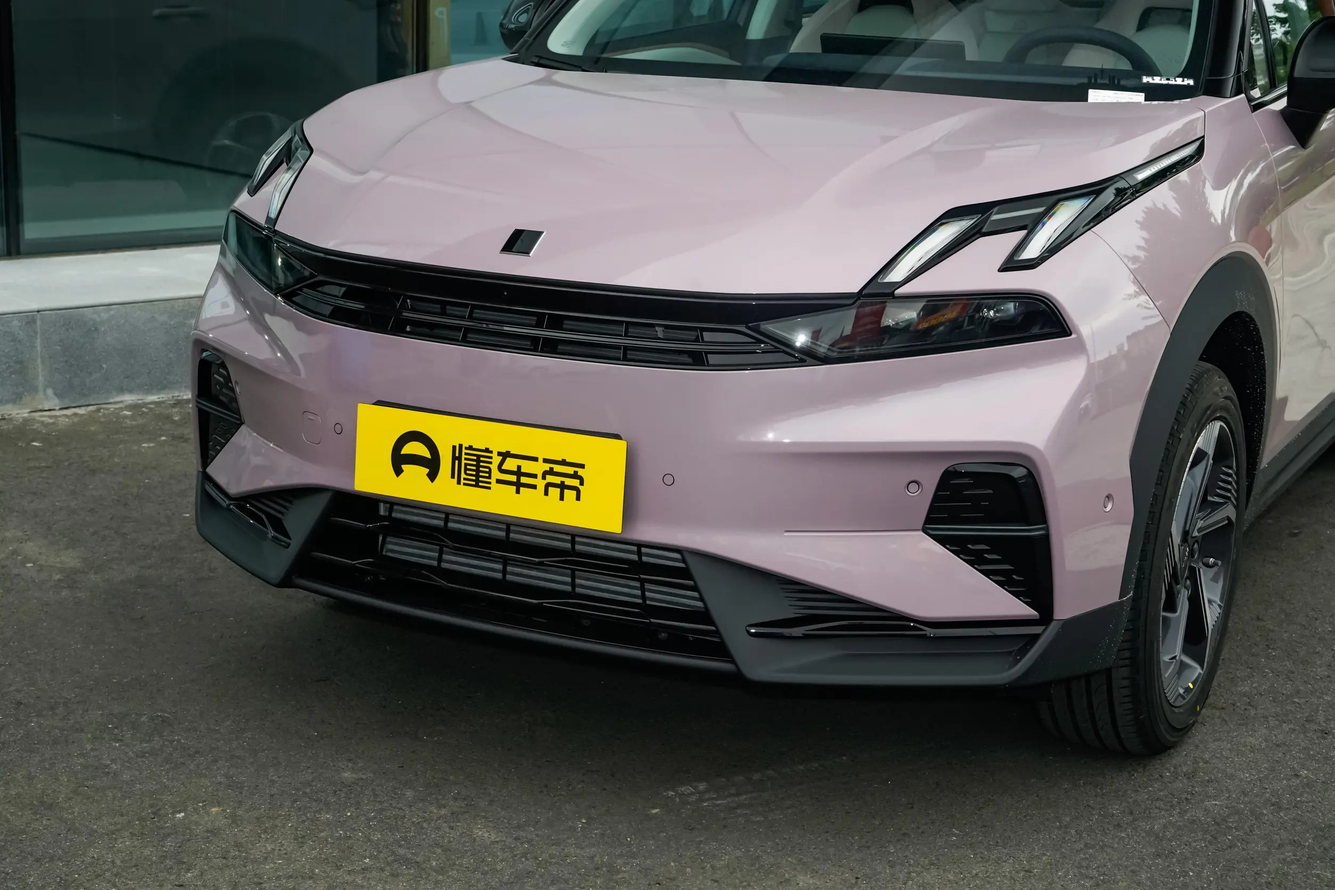LINK&CO: (500, 229, 545, 256)
